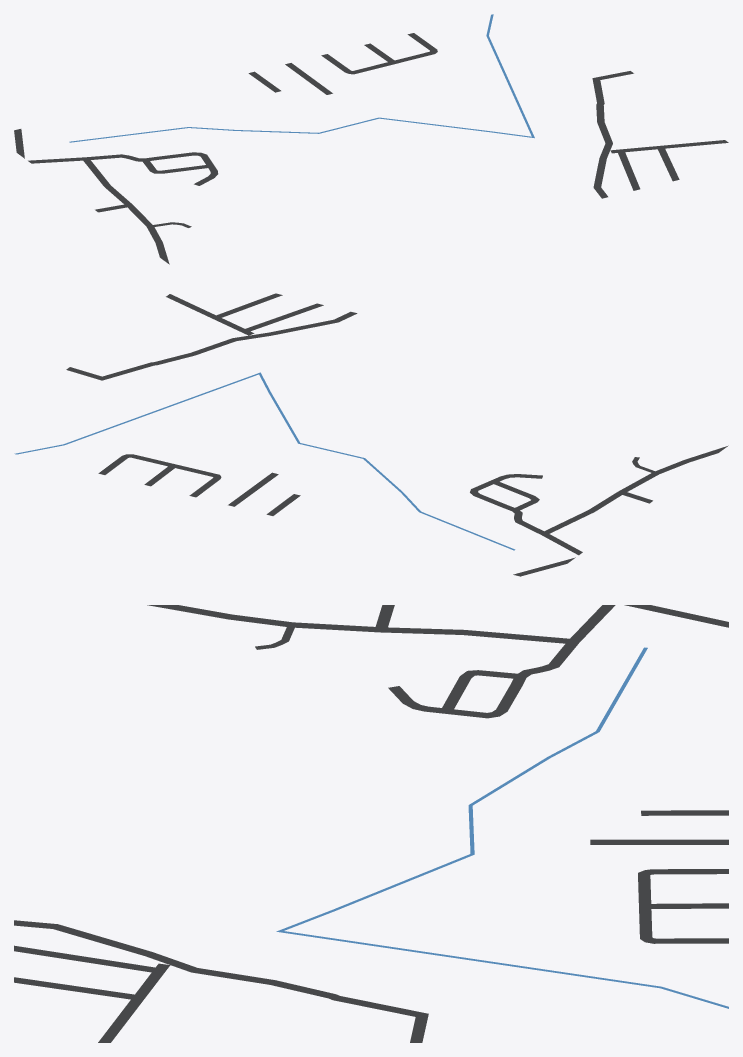
The picture shows the model from 3 angles, top to bottom: view 1: azimuth 30°, elevation 25°; view 2: azimuth 150°, elevation 25°; view 3: azimuth 270°, elevation 25°; orthographic projection. The views are drawn at different scales.
Parts seen in each view (by area): view 1: ground, water; view 2: ground, water; view 3: ground, water.
Boxes of the visible parts, <box> form: ground: <box>14,33,728,264</box>; water: <box>69,14,534,142</box>; ground: <box>66,293,728,576</box>; water: <box>14,372,515,550</box>; ground: <box>14,605,728,1042</box>; water: <box>276,647,728,1008</box>.
Size of the model in its own units: 500 by 0.7 by 345.
